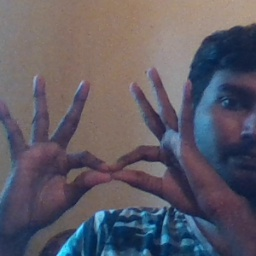B: (42, 112, 175, 210)
